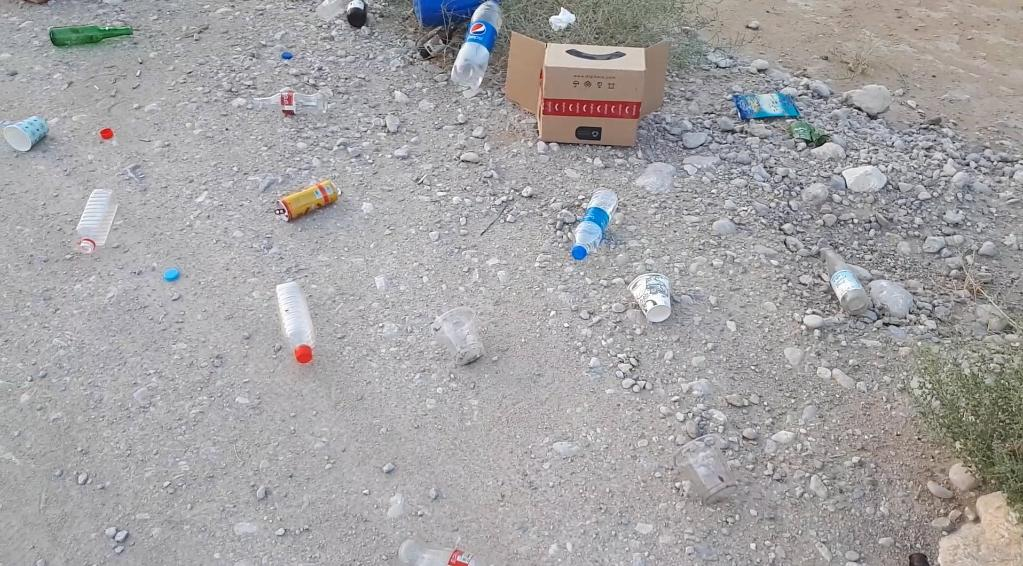garbage: (506, 33, 669, 146), (447, 0, 510, 97), (269, 279, 322, 372), (452, 1, 503, 90), (817, 240, 875, 315), (566, 188, 623, 263), (67, 185, 121, 260), (572, 187, 619, 260), (572, 189, 619, 261), (275, 281, 316, 363), (821, 249, 870, 315), (277, 283, 315, 363), (42, 20, 140, 51), (243, 87, 331, 121), (826, 247, 869, 315), (76, 189, 118, 254), (397, 538, 494, 566), (275, 180, 338, 222), (1, 110, 56, 157), (275, 181, 339, 221), (724, 92, 806, 122), (79, 190, 116, 252), (629, 273, 672, 322), (413, 0, 486, 26), (253, 92, 328, 115), (50, 25, 132, 46), (254, 91, 325, 115), (50, 26, 133, 46), (733, 95, 799, 119), (415, 24, 458, 58), (4, 118, 48, 151), (347, 1, 367, 27)
